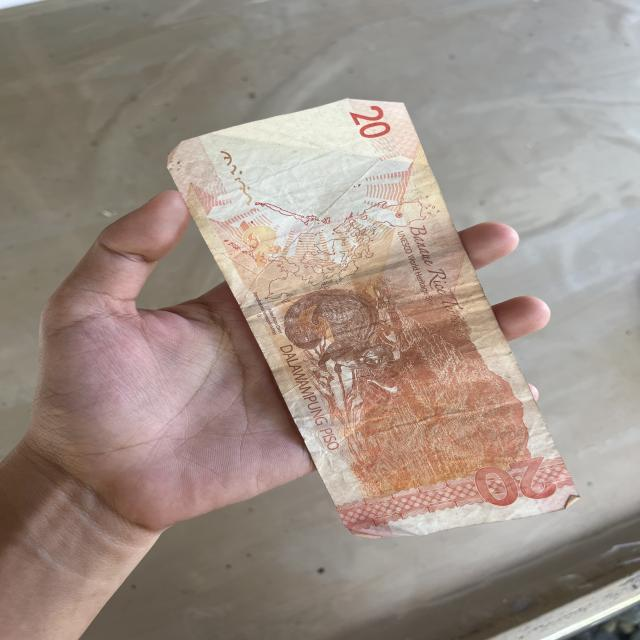20_civet: (272, 286, 401, 378)
20_civet_watermark: (236, 218, 283, 264)
